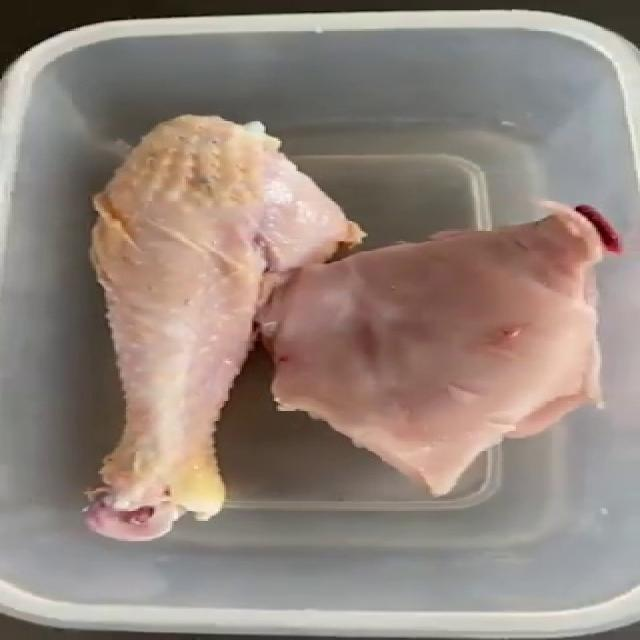chicken: (80, 112, 366, 542), (253, 197, 621, 497)
